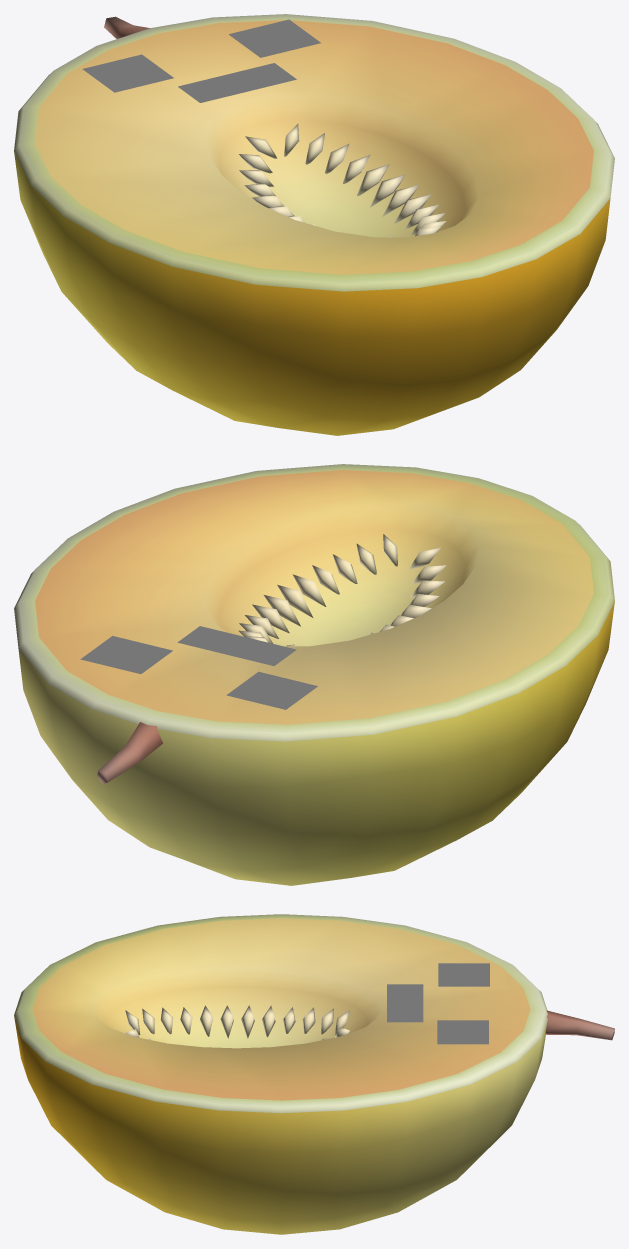
File: melon_half_smile.fbx
The picture shows the model from 3 angles, top to bottom: view 1: azimuth 30°, elevation 25°; view 2: azimuth 150°, elevation 25°; view 3: azimuth 270°, elevation 25°; orthographic projection. The views are drawn at different scales.
Parts seen in each view (by area): view 1: melon_002, smile; view 2: melon_002, smile; view 3: melon_002, smile.
Part boxes in pixels (bbox=[...]): melon_002: bbox=[14, 14, 614, 435]; smile: bbox=[82, 19, 320, 102]; melon_002: bbox=[14, 464, 614, 885]; smile: bbox=[80, 626, 317, 709]; melon_002: bbox=[14, 914, 614, 1234]; smile: bbox=[387, 963, 489, 1044].
Size of the model in its own units: 73.79 by 36.71 by 95.62.
